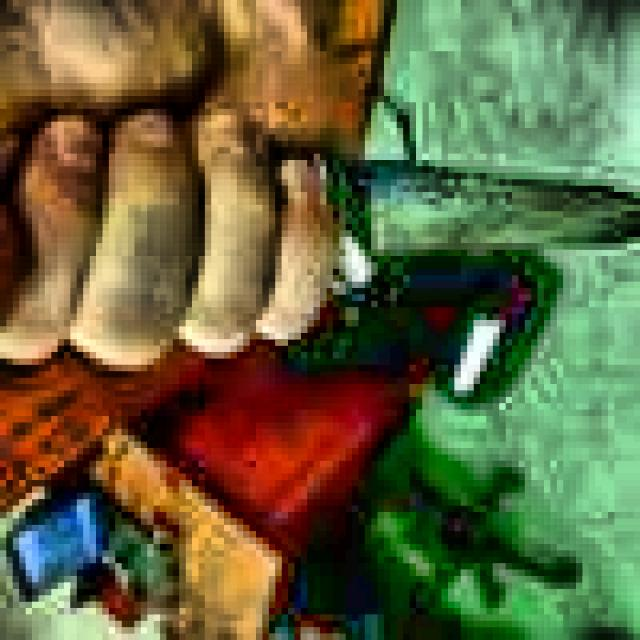knife: (325, 162, 634, 295)
